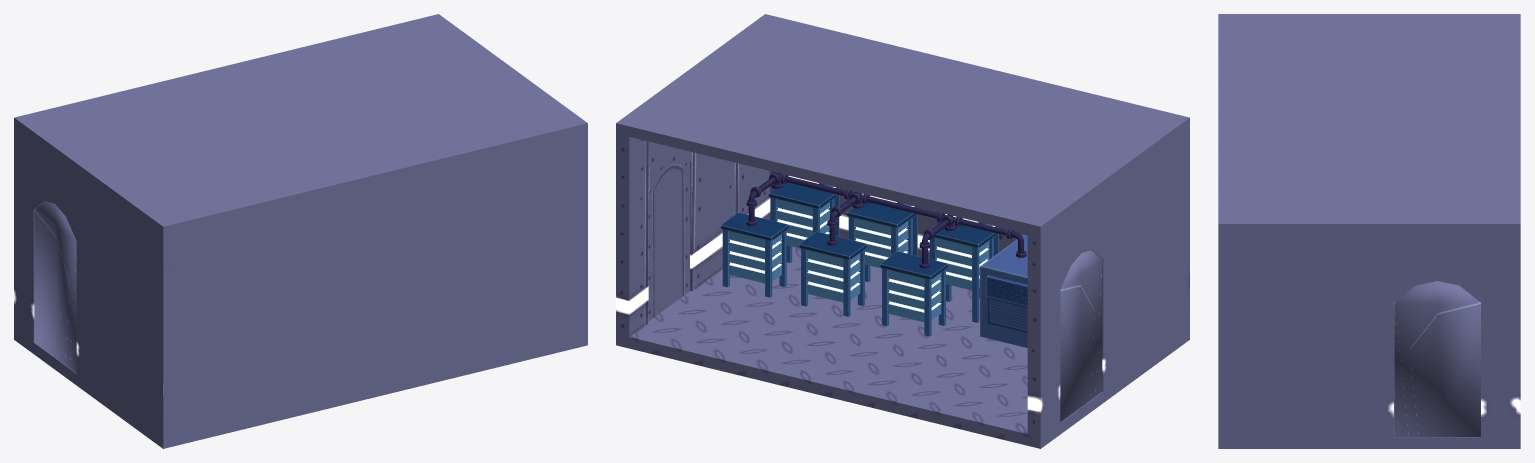
File: complex_en_hon.fbx
3 renders of one model, left to right at view 1: azimuth 30°, elevation 25°; view 2: azimuth 150°, elevation 25°; view 3: azimuth 270°, elevation 25°, orthographic.
Visible parts, largest first — view 1: base, base.002; view 2: base, base.002, base.001, Cube.001, Cube.010, Cube.007, Cube.004, Cube.014, Cube.005, Cube.008, Cube.011; view 3: base, base.001.
Boxes of the visible parts, x1,y1,x2,y2 form: base: (14,14,587,448); base.002: (34,201,76,372); base: (616,14,1189,448); base.002: (1060,250,1102,421); base.001: (648,154,689,320); Cube.001: (980,234,1027,347); Cube.010: (720,212,788,297); Cube.007: (799,231,867,316); Cube.004: (880,251,948,336); Cube.014: (746,172,1026,268); Cube.005: (929,223,995,322); Cube.008: (846,202,914,282); Cube.011: (768,182,836,262); base: (1218,14,1520,448); base.001: (1394,281,1480,436).
Bounding box in the file's own units: 800 × 400 × 487.
